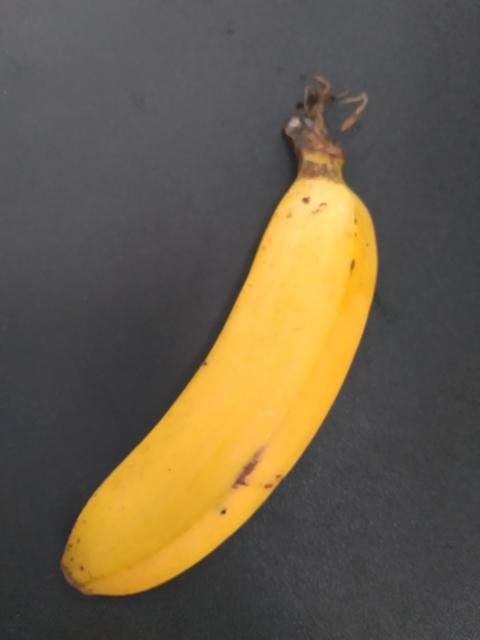freshripe: (31, 157, 395, 628)
